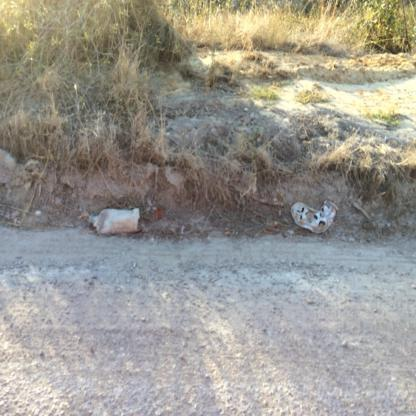plastik: (90, 208, 142, 235)
